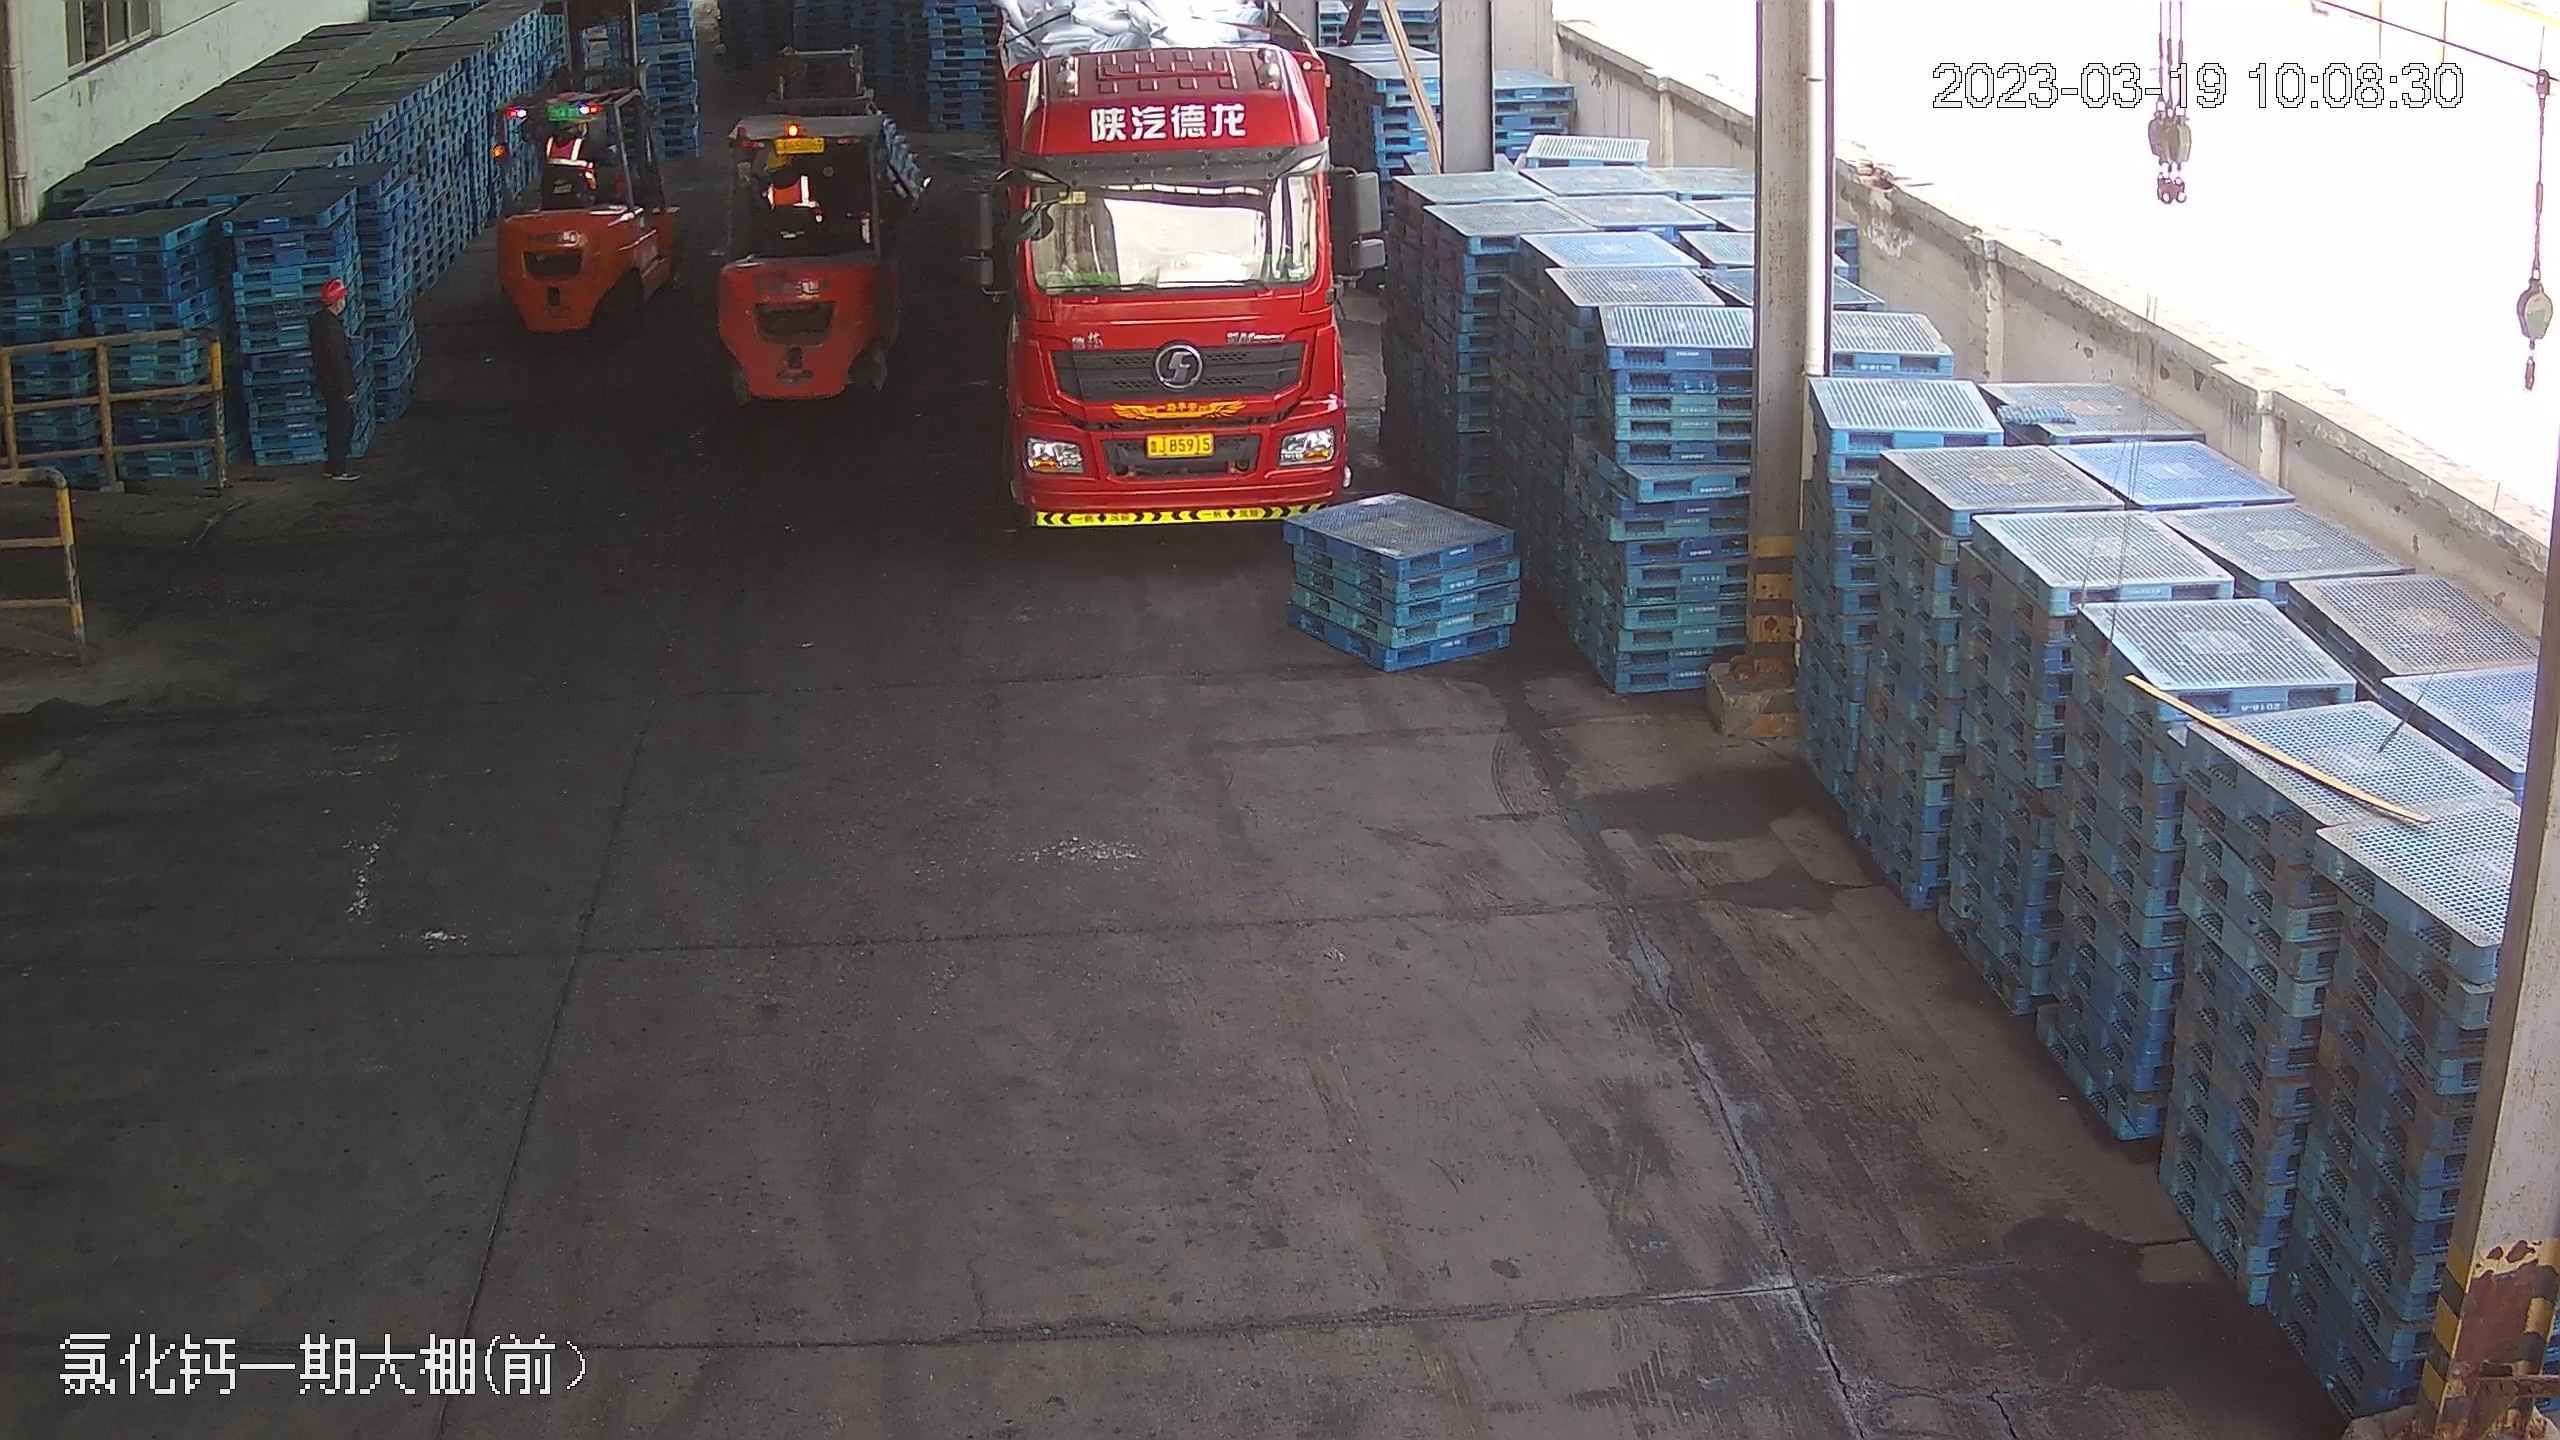head: (307, 276, 353, 337)
helmet: (307, 275, 351, 333), (316, 277, 346, 303)
people: (304, 273, 363, 479)
truck: (977, 0, 1351, 519)
